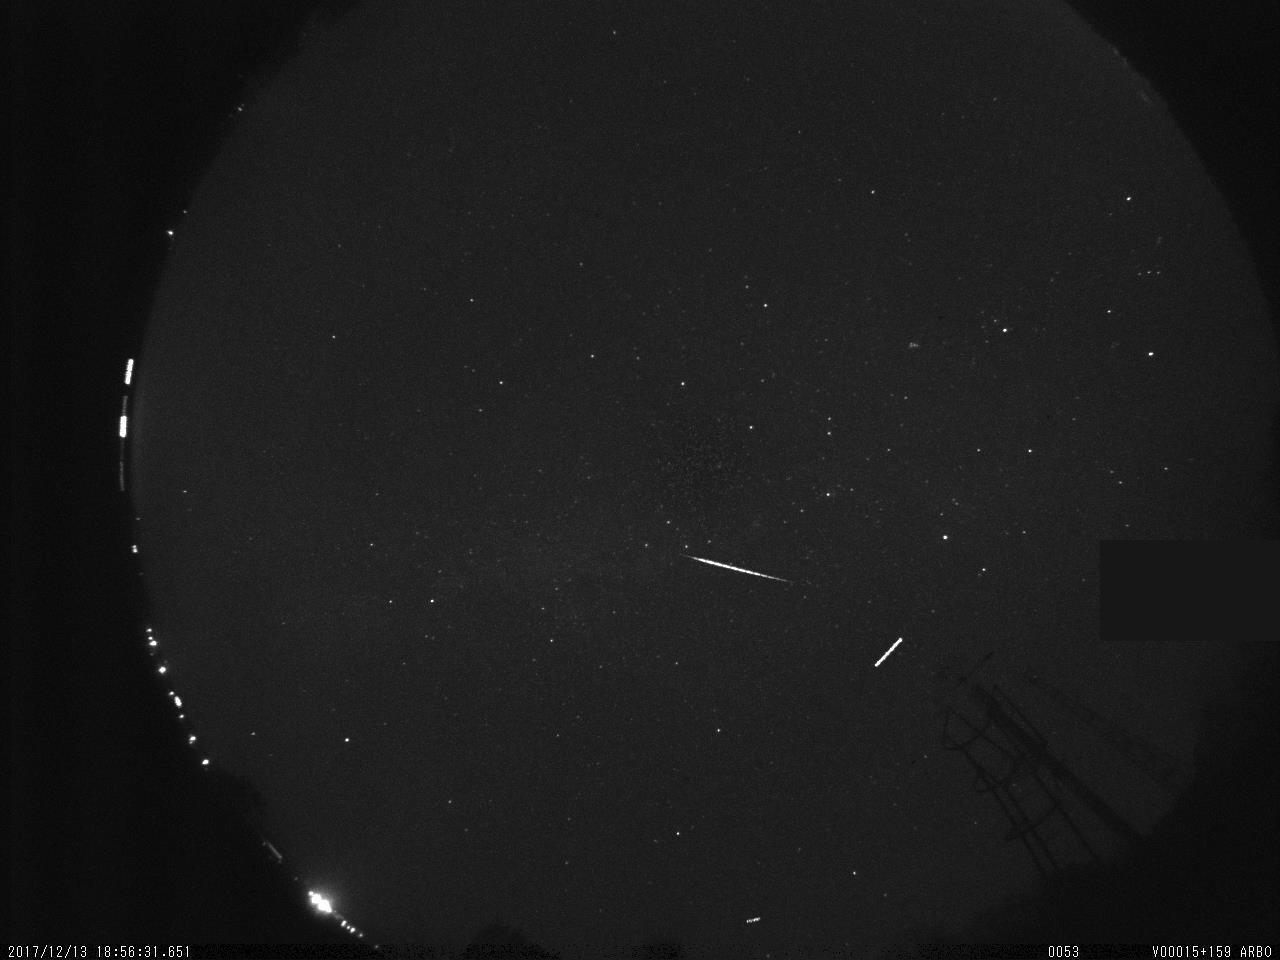Meteor: (679, 549, 792, 585)
